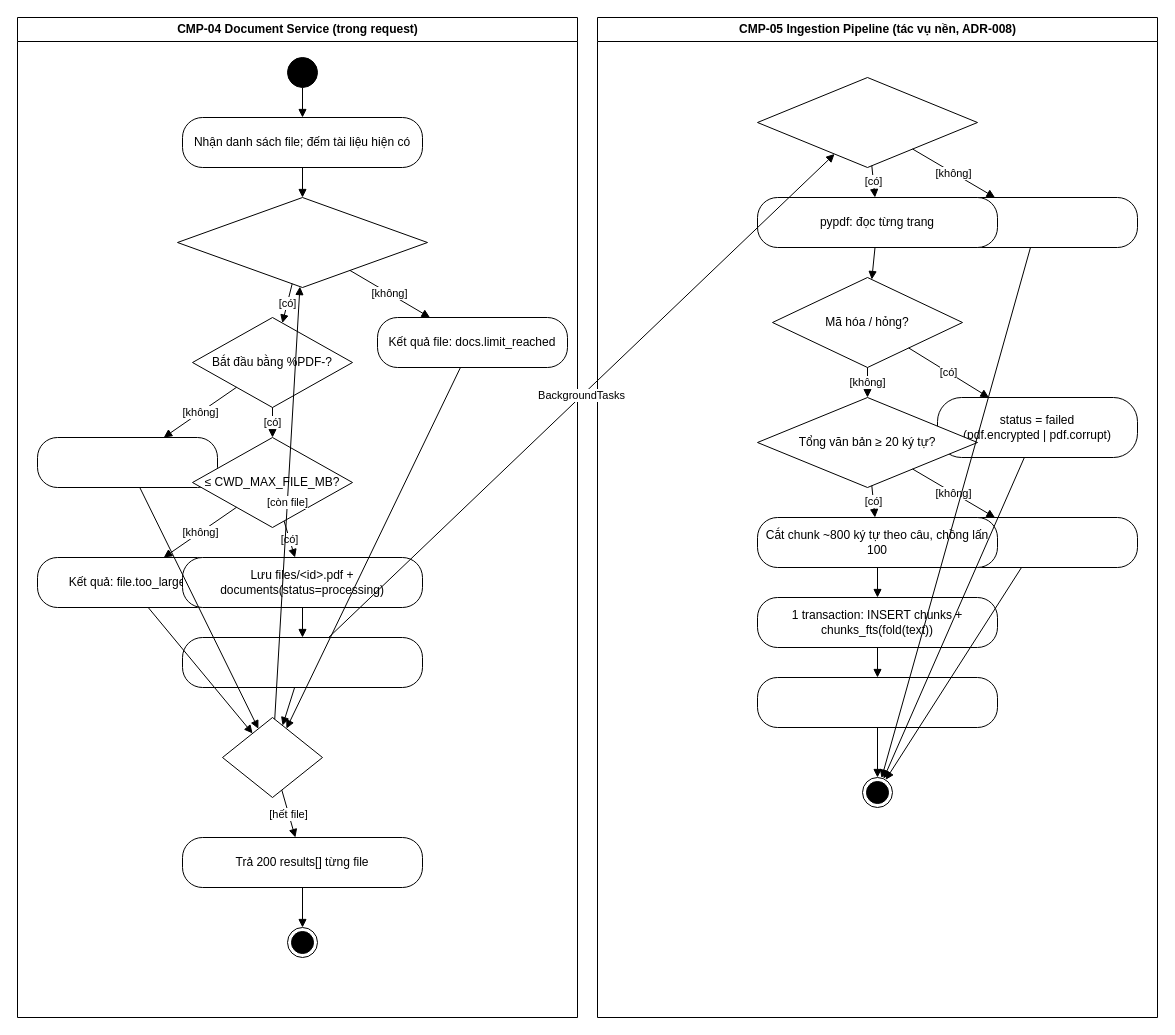
Image size: 1175x1035. Some labels were removed from this diagram. The centre of each missing label's shape, as x and y in pixels:
[với mỗi file] Còn chỗ? (đã có + đã nhận < CWD_MAX_DOCS): the point at 302,242
Audit document.upload; đăng ký tác vụ nền: the point at 302,662
Bỏ kết quả (đã bị xóa): the point at 1037,222
Còn file?: the point at 272,757
Kết quả: file.wrong_type: the point at 127,462
status = no_text: the point at 1037,542
status = ready, page_count: the point at 877,702
Tài liệu còn tồn tại?: the point at 867,122
